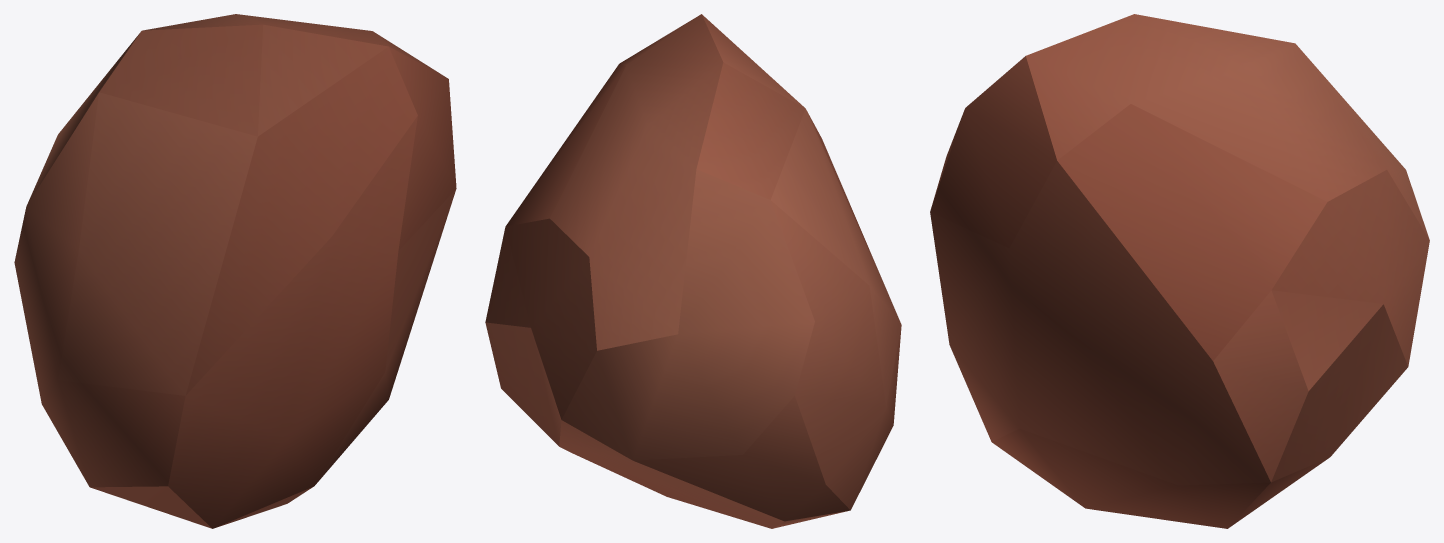
File: Rock_3_E_Color2.fbx
3 views of the same model, side by side, from view 1: azimuth 30°, elevation 25°; view 2: azimuth 150°, elevation 25°; view 3: azimuth 270°, elevation 25° (orthographic). The views are drawn at different scales.
Visible parts, largest first — view 1: Rock_3_E_Color2; view 2: Rock_3_E_Color2; view 3: Rock_3_E_Color2.
Part boxes in pixels (<box>): Rock_3_E_Color2: <box>14,14,456,528</box>; Rock_3_E_Color2: <box>485,14,901,528</box>; Rock_3_E_Color2: <box>930,14,1429,528</box>.
Bounding box in the file's own units: 1.15 × 1.29 × 1.18.
